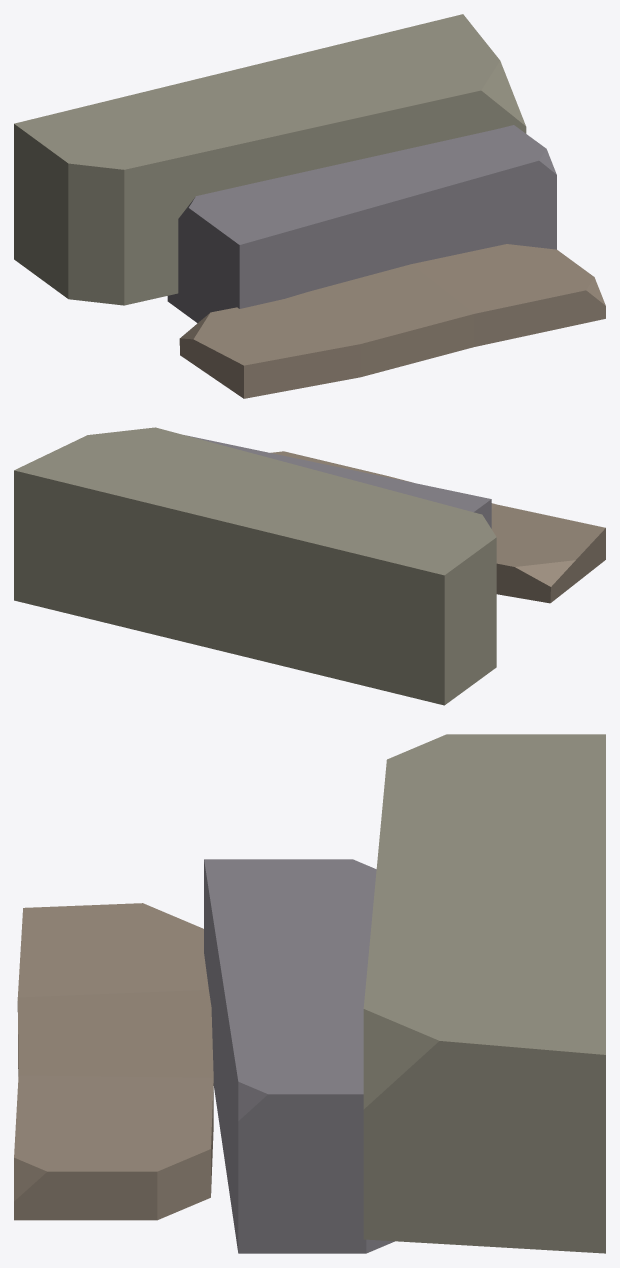
The model's file is House_Steps.fbx.
3 views of the same model, one above another, from view 1: azimuth 30°, elevation 25°; view 2: azimuth 150°, elevation 25°; view 3: azimuth 270°, elevation 25° (orthographic). The views are drawn at different scales.
Parts seen in each view (by area): view 1: House_Steps; view 2: House_Steps; view 3: House_Steps.
Boxes of the visible parts, x1,y1,x2,y2 form: House_Steps: [14, 14, 605, 398]; House_Steps: [14, 427, 605, 705]; House_Steps: [14, 734, 605, 1253].
Size of the model in its own units: 170 by 54.81 by 133.
